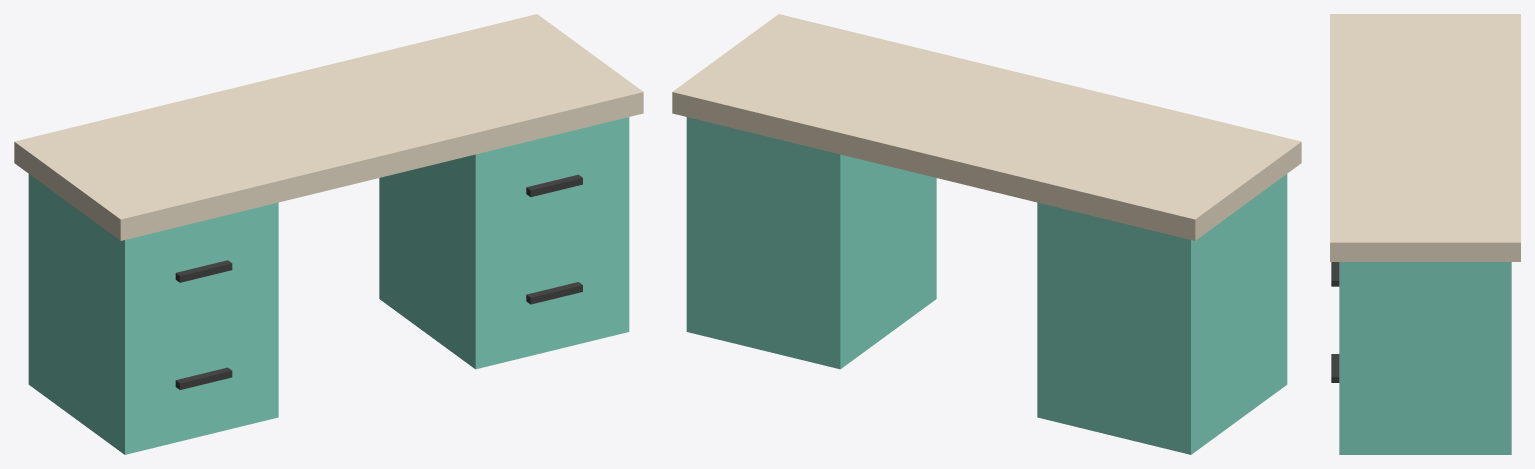
3 renders of one model, left to right at view 1: azimuth 30°, elevation 25°; view 2: azimuth 150°, elevation 25°; view 3: azimuth 270°, elevation 25°, orthographic. The views are drawn at different scales.
Parts seen in each view (by area): view 1: Worktop, Storage module, Storage module.001, Handle.001, Handle, Handle.002, Handle.003; view 2: Worktop, Storage module, Storage module.001; view 3: Worktop, Storage module.001, Handle.002, Handle.003.
Part boxes in pixels (x1=…): Worktop: x1=14, y1=14, x2=643, y2=240; Storage module: x1=28, y1=174, x2=278, y2=454; Storage module.001: x1=379, y1=117, x2=629, y2=369; Handle.001: x1=175, y1=260, x2=232, y2=282; Handle: x1=175, y1=367, x2=232, y2=389; Handle.002: x1=526, y1=282, x2=582, y2=304; Handle.003: x1=526, y1=174, x2=582, y2=196; Worktop: x1=672, y1=14, x2=1301, y2=240; Storage module: x1=1037, y1=174, x2=1287, y2=454; Storage module.001: x1=686, y1=117, x2=936, y2=369; Worktop: x1=1330, y1=14, x2=1520, y2=261; Storage module.001: x1=1339, y1=262, x2=1511, y2=454; Handle.002: x1=1331, y1=354, x2=1339, y2=382; Handle.003: x1=1331, y1=262, x2=1339, y2=286.
Bounding box in the file's own units: 204 × 90 × 72.
